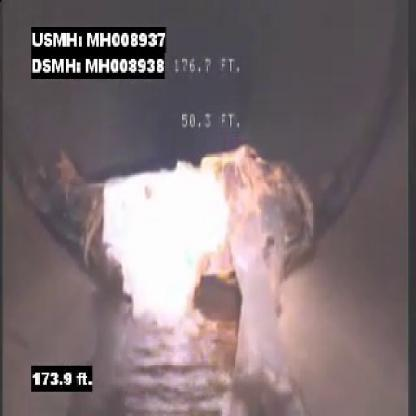Obstacle: (44, 135, 355, 333)
